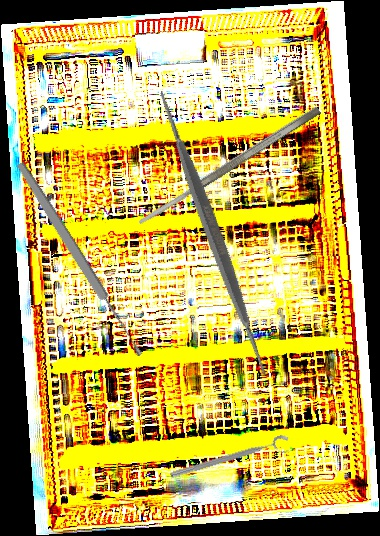Fixation Ring: (168, 433, 294, 488)
Spatula Surgical: (55, 78, 370, 390), (135, 104, 323, 228)
Surgical Spoon: (14, 160, 146, 359)
